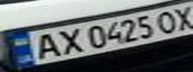0: (84, 22, 109, 50)
2: (118, 16, 142, 43)
4: (106, 18, 124, 46)
5: (133, 12, 160, 39)
A: (24, 29, 66, 61)
O: (151, 8, 184, 35)
X: (51, 26, 84, 56), (169, 3, 193, 32)
